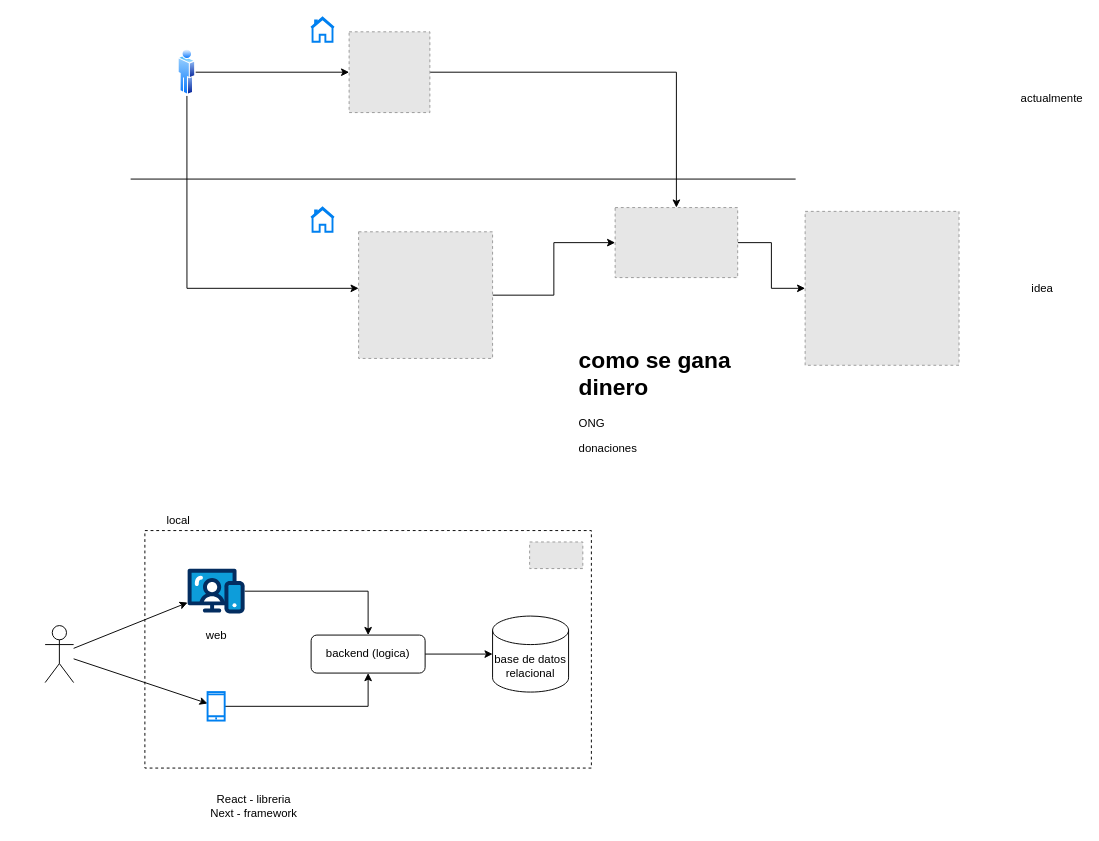
Some shapes in this 1099 by 841 pixel diagram are drawn without their labels. Grey dashed boxes stand in for pictures. Each missing label, with the box of its shape:
gente en su casa: (44, 625, 74, 683)
movil: (206, 691, 225, 721)
